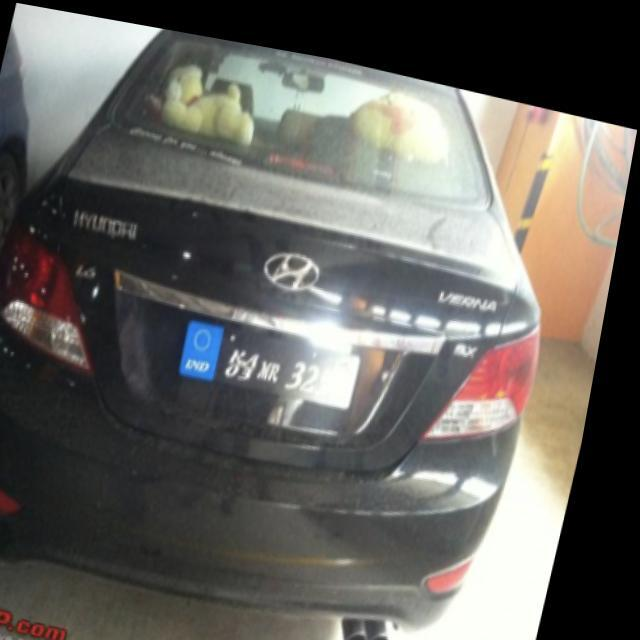license_plate: (188, 304, 370, 396)
